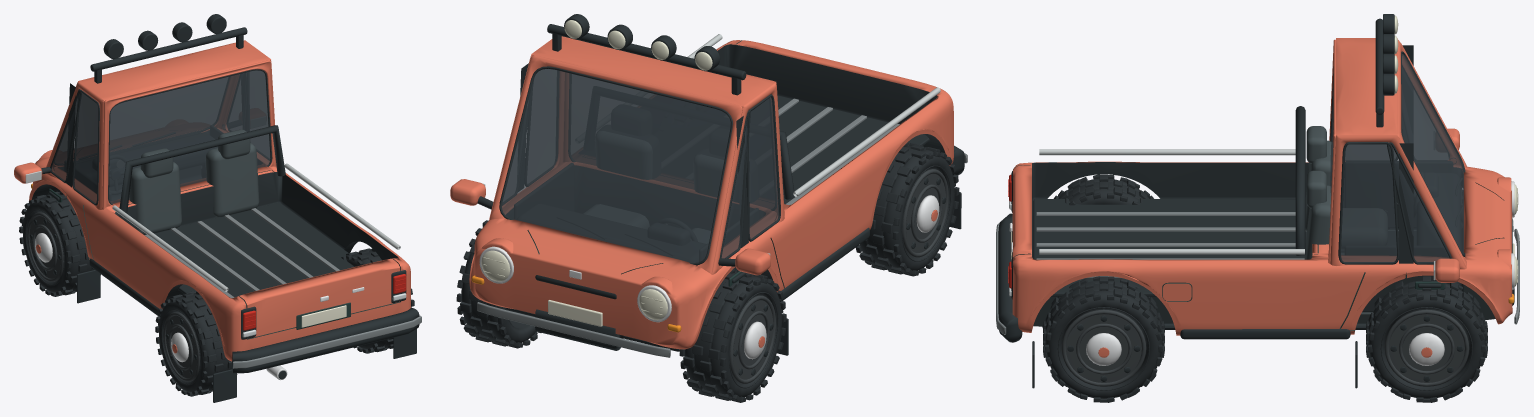
Rendered from hauler_lod1.fbx.
3 views of the same model, side by side, from view 1: azimuth 30°, elevation 25°; view 2: azimuth 150°, elevation 25°; view 3: azimuth 270°, elevation 25° (orthographic). The views are drawn at different scales.
Visible parts, largest first — view 1: Body, Wheel_RL_Mesh, Wheel_FL_Mesh, Wheel_RR_Mesh; view 2: Body, Wheel_FL_Mesh, Wheel_RL_Mesh, Wheel_FR_Mesh; view 3: Body, Wheel_RR_Mesh, Wheel_FR_Mesh, Wheel_RL_Mesh.
Part boxes in pixels (left/top/right/bottom): Body: left=14, top=14, right=421, bottom=402; Wheel_RL_Mesh: left=155, top=291, right=237, bottom=396; Wheel_FL_Mesh: left=19, top=191, right=100, bottom=296; Wheel_RR_Mesh: left=341, top=248, right=414, bottom=353; Body: left=450, top=14, right=967, bottom=357; Wheel_FL_Mesh: left=679, top=269, right=786, bottom=402; Wheel_RL_Mesh: left=856, top=143, right=959, bottom=276; Wheel_FR_Mesh: left=456, top=220, right=541, bottom=348; Body: left=996, top=14, right=1519, bottom=388; Wheel_RR_Mesh: left=1043, top=276, right=1164, bottom=402; Wheel_FR_Mesh: left=1366, top=276, right=1487, bottom=402; Wheel_RL_Mesh: left=1053, top=174, right=1153, bottom=205.
Bounding box in the file's own units: 230 × 225 × 357.
